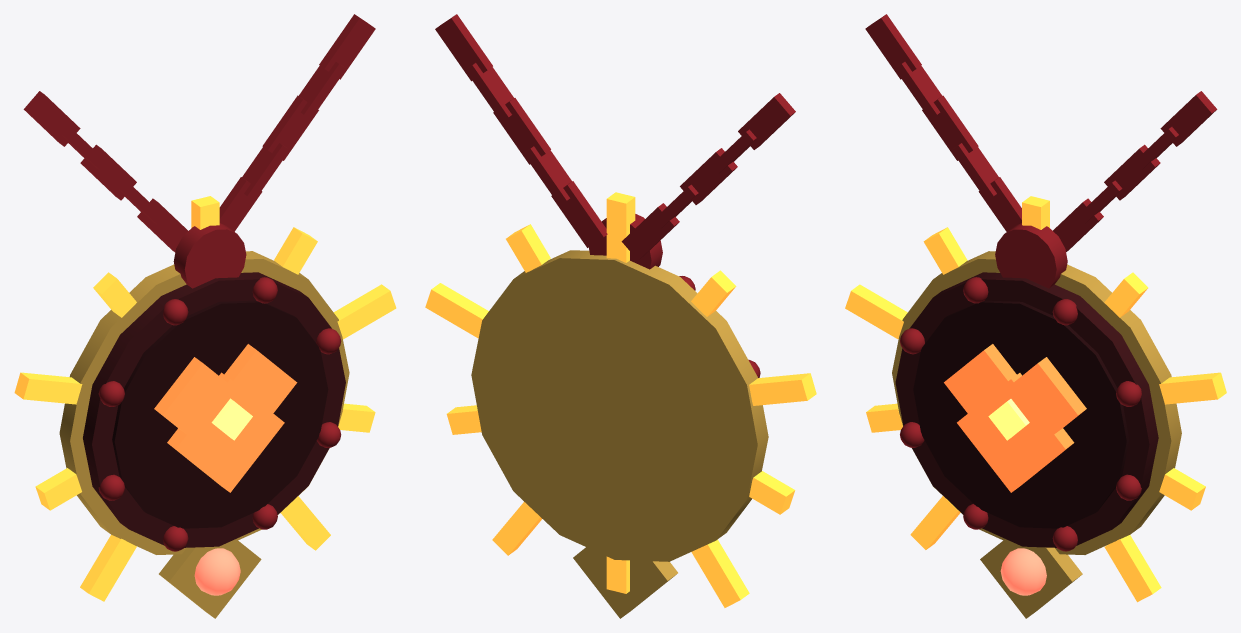
3 renders of one model, left to right at view 1: azimuth 30°, elevation 25°; view 2: azimuth 150°, elevation 25°; view 3: azimuth 330°, elevation 25°, orthographic. The views are drawn at different scales.
Parts seen in each view (by area): view 1: emberheart-pendant; view 2: emberheart-pendant; view 3: emberheart-pendant.
Boxes of the visible parts, box(x1,y1,x2,y2) form: emberheart-pendant: box(14, 14, 396, 618); emberheart-pendant: box(425, 14, 816, 618); emberheart-pendant: box(845, 14, 1226, 618).
Bounding box in the file's own units: 0.2508 × 0.3554 × 0.0472.
